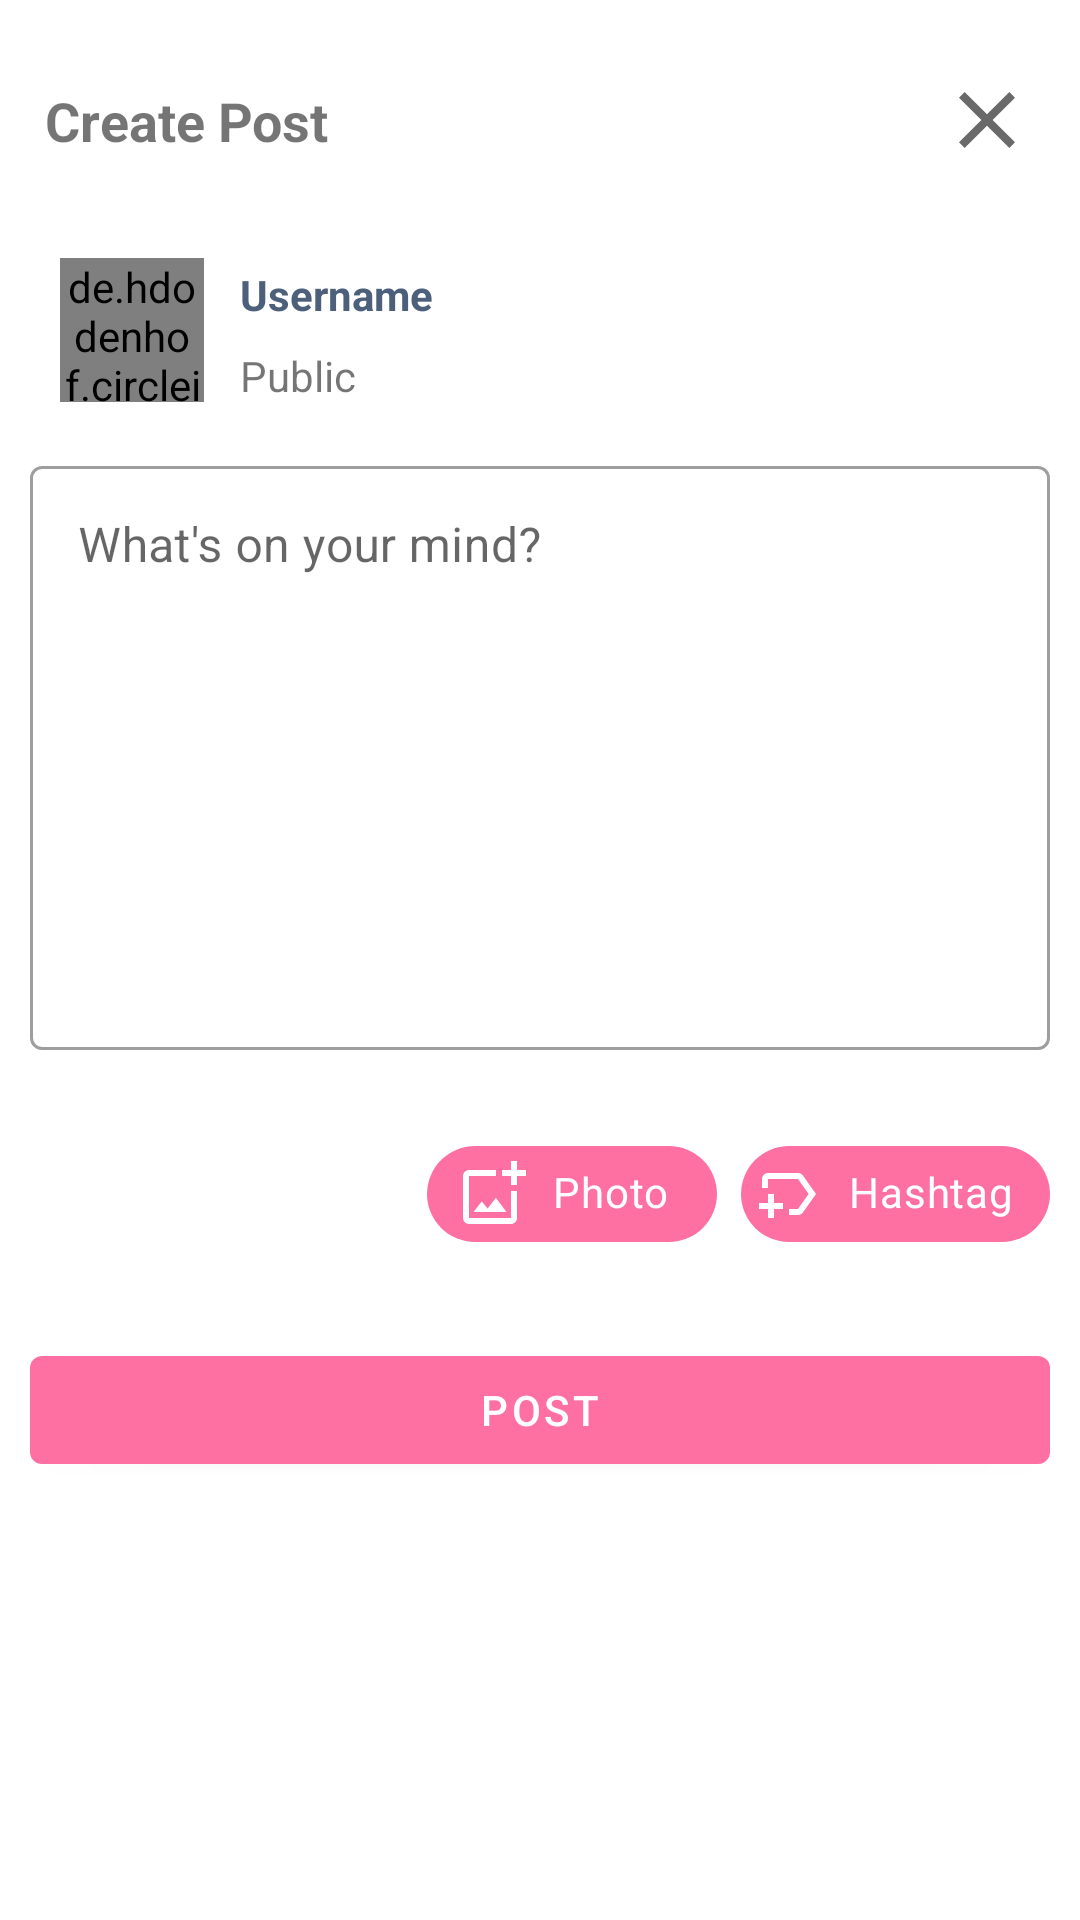

Screen size 1080×1920. Icon name, then its center in pixels as (x=x, y=y):
close: (x=987, y=120)
